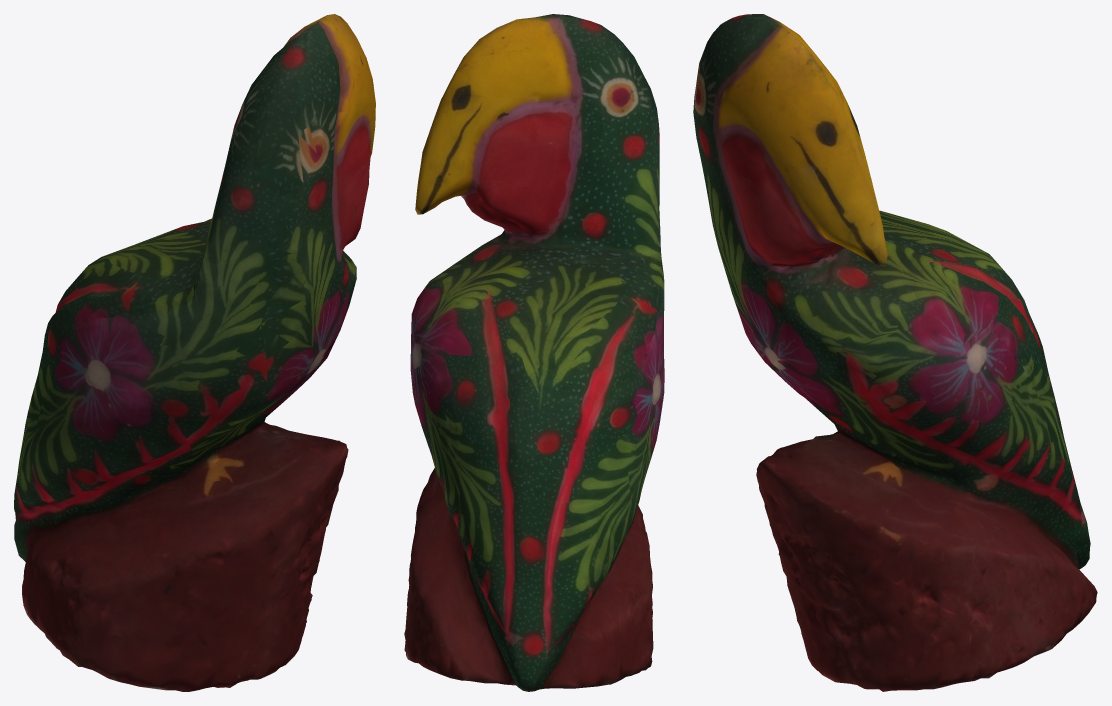
The model's file is alebrije_pajaro.obj.
3 renders of one model, left to right at view 1: azimuth 30°, elevation 25°; view 2: azimuth 150°, elevation 25°; view 3: azimuth 270°, elevation 25°, orthographic. The views are drawn at different scales.
Parts seen in each view (by area): view 1: alebrije_pajaro; view 2: alebrije_pajaro; view 3: alebrije_pajaro.
Part boxes in pixels (x1,y1,x2,y2): alebrije_pajaro: [14, 14, 375, 691]; alebrije_pajaro: [404, 14, 664, 691]; alebrije_pajaro: [693, 14, 1097, 691].
Size of the model in its own units: 0.1113 by 0.25 by 0.139.
